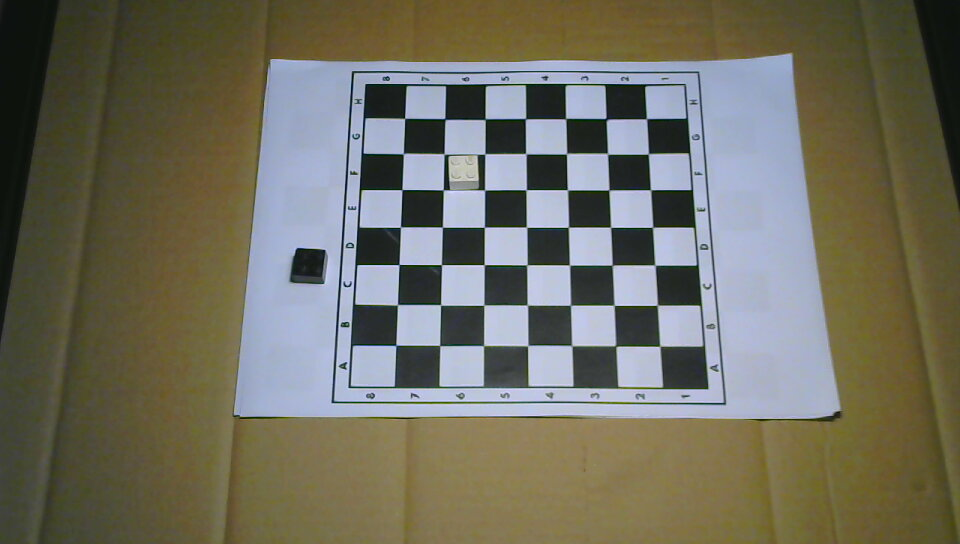bp: (290, 246, 327, 284)
wp: (446, 154, 480, 190)
